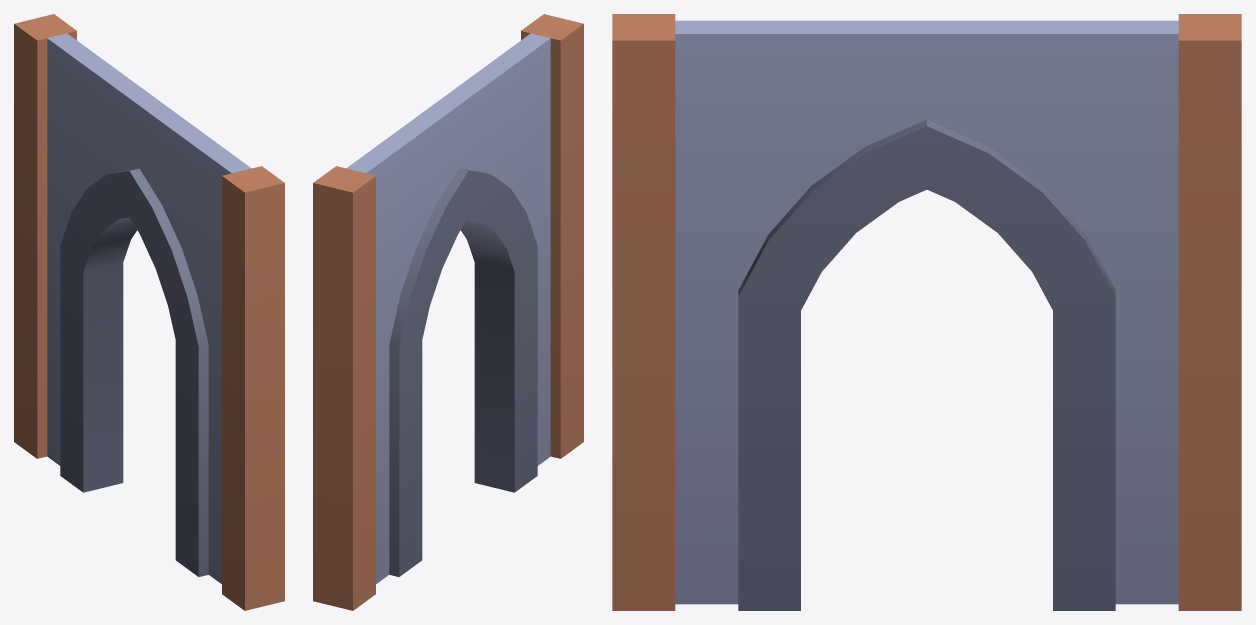
Rendered from wall-doorway-round.glb.
The picture shows the model from 3 angles, left to right: view 1: azimuth 30°, elevation 25°; view 2: azimuth 150°, elevation 25°; view 3: azimuth 270°, elevation 25°; orthographic projection. The views are drawn at different scales.
Parts seen in each view (by area): view 1: wall-doorway-round; view 2: wall-doorway-round; view 3: wall-doorway-round.
Part boxes in pixels (x1,y1,x2,y2): wall-doorway-round: (14, 14, 284, 610); wall-doorway-round: (313, 14, 583, 610); wall-doorway-round: (612, 14, 1241, 610).
Bounding box in the file's own units: 0.1 × 1 × 1.
Materials: 1 (1 with a texture image).
